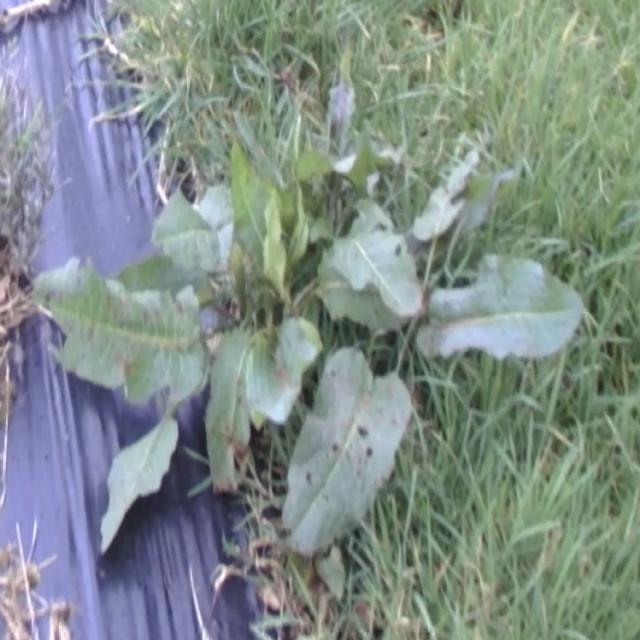organic waste: (31, 61, 594, 572), (5, 125, 367, 530), (282, 118, 576, 603)
